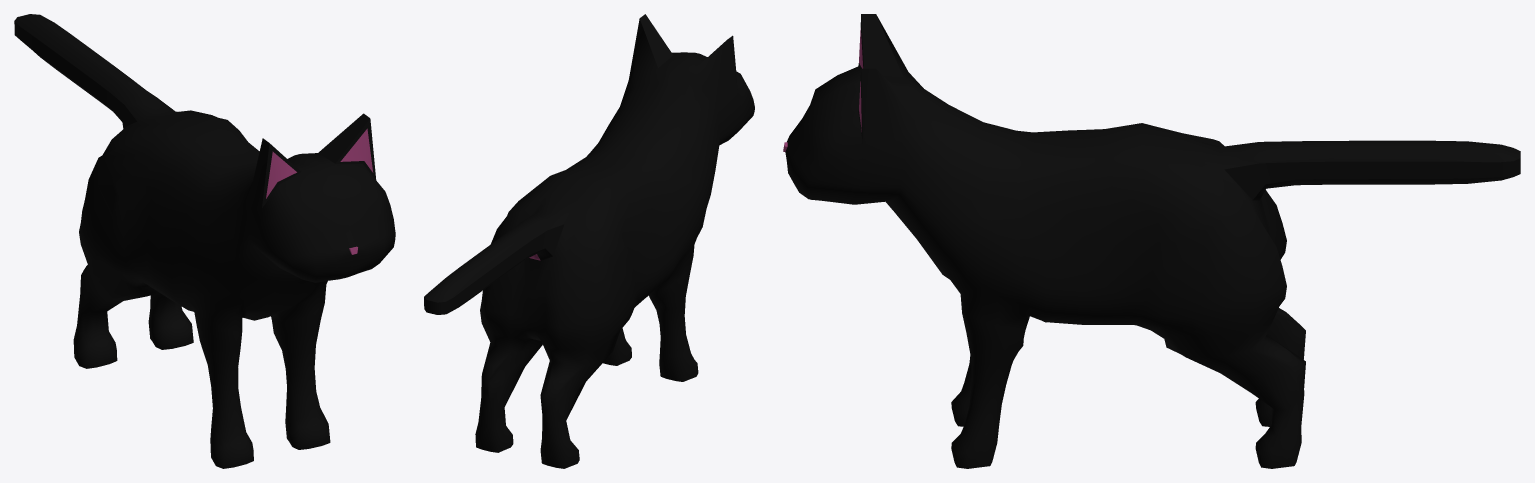
Rendered from CatV2.fbx.
3 renders of one model, left to right at view 1: azimuth 30°, elevation 25°; view 2: azimuth 150°, elevation 25°; view 3: azimuth 270°, elevation 25°, orthographic. The views are drawn at different scales.
Parts seen in each view (by area): view 1: Cat; view 2: Cat; view 3: Cat.
Boxes of the visible parts, bbox=[...] form: Cat: bbox=[14, 14, 395, 468]; Cat: bbox=[424, 14, 754, 468]; Cat: bbox=[783, 14, 1520, 468].
Bounding box in the file's own units: 20.06 × 46.66 × 78.49.
